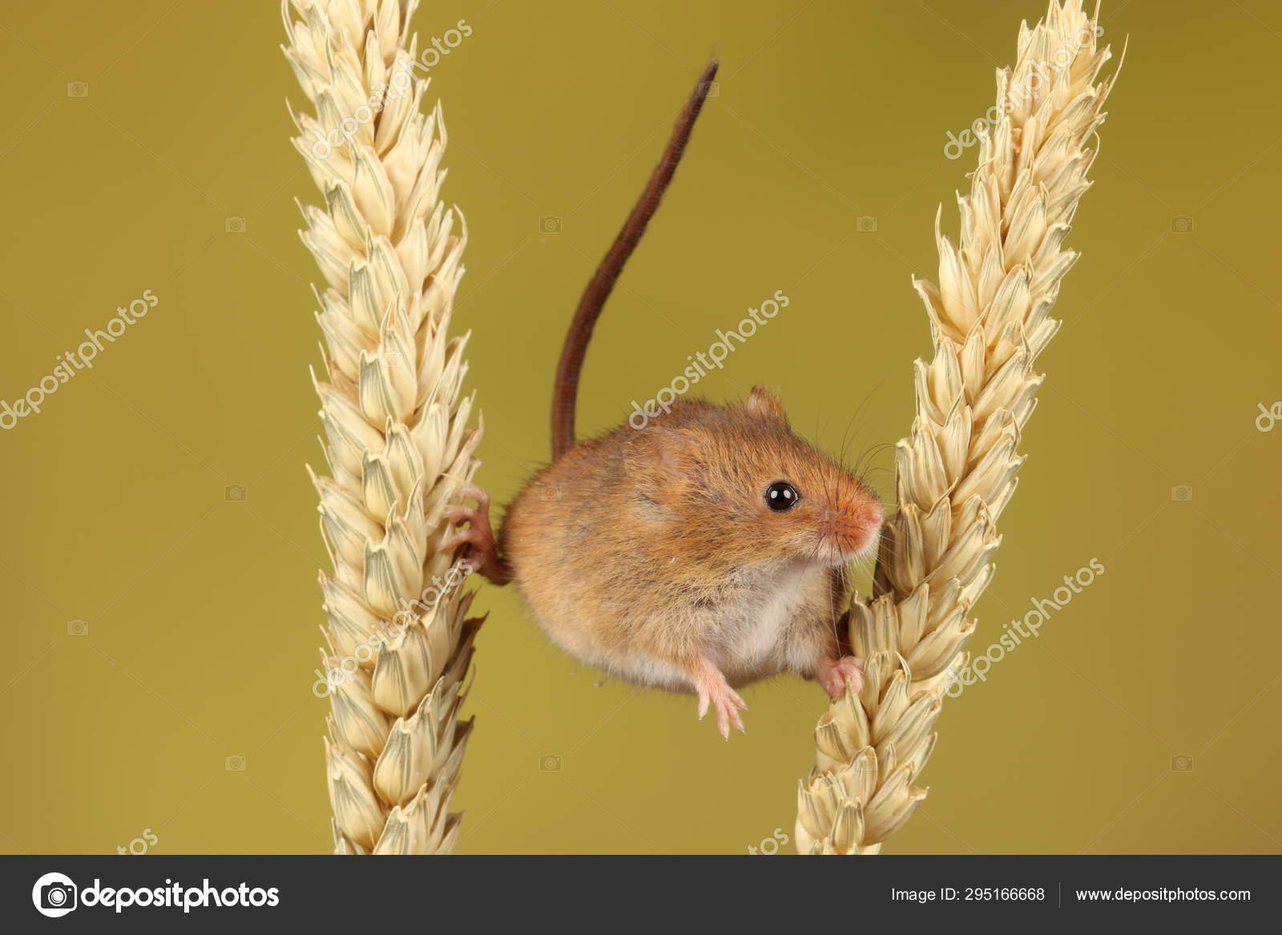rat: (447, 56, 887, 736)
